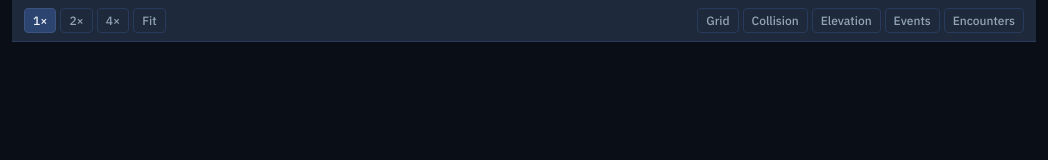
Test: MapCanvas › every overlay toggle starts off, and turning one on reveals its legend
Click the button with aria-label "Show collision overlay": (775, 20) [742,8,808,33]
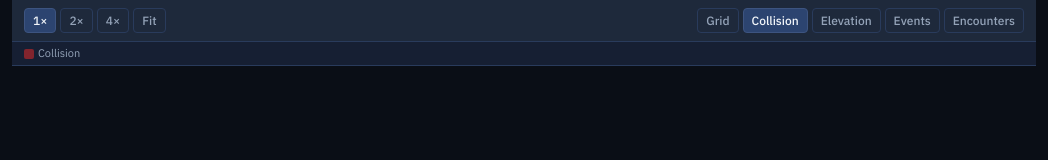
Expected: the text "Collision" is shown, [24,46,80,61]
